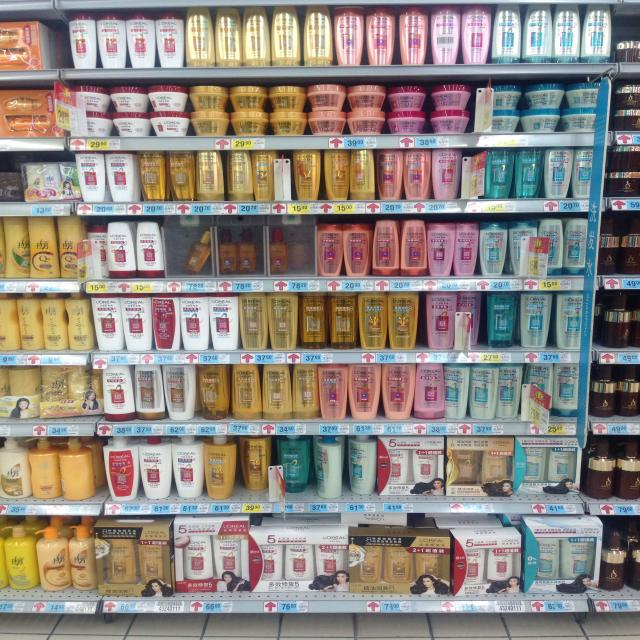unorganised: (347, 528, 452, 597), (522, 516, 603, 598), (448, 527, 524, 599), (29, 437, 99, 503), (316, 435, 379, 501), (325, 150, 375, 200), (237, 433, 271, 497), (161, 365, 199, 422), (278, 434, 309, 501), (149, 293, 182, 351), (5, 216, 30, 278), (443, 364, 469, 418), (461, 291, 482, 349)
